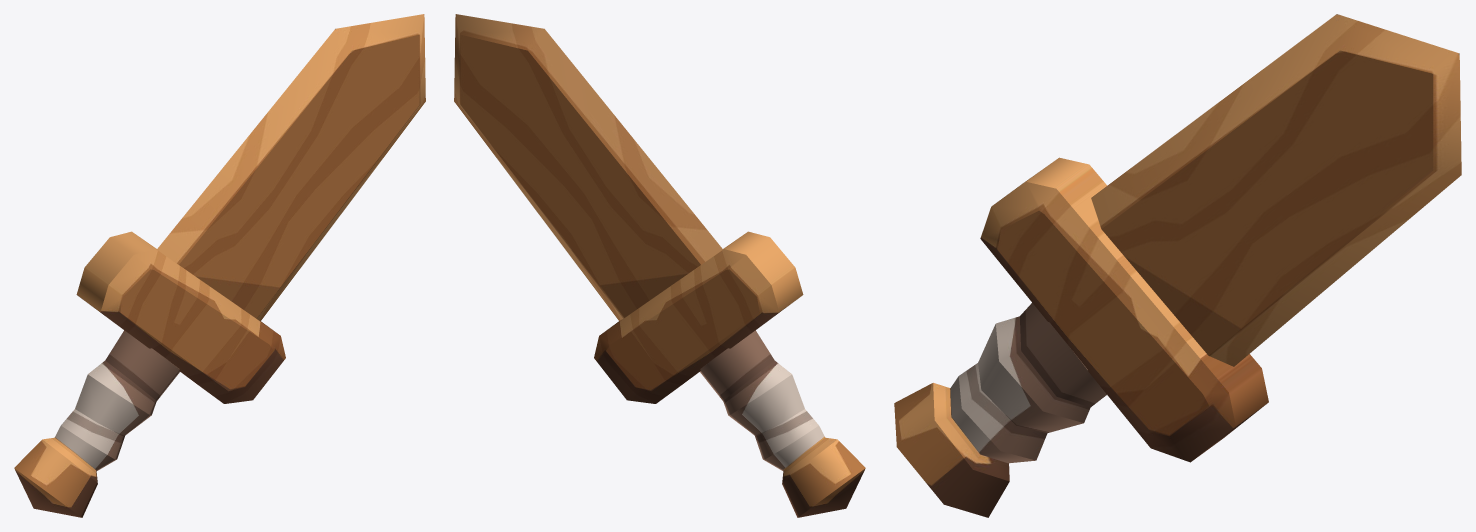
Rendered from Wood_01.FBX.
The picture shows the model from 3 angles, left to right: view 1: azimuth 30°, elevation 25°; view 2: azimuth 150°, elevation 25°; view 3: azimuth 330°, elevation 25°; orthographic projection. The views are drawn at different scales.
Parts seen in each view (by area): view 1: Wood_01; view 2: Wood_01; view 3: Wood_01.
Boxes of the visible parts, x1,y1,x2,y2 form: Wood_01: [14, 14, 425, 517]; Wood_01: [454, 14, 865, 517]; Wood_01: [894, 14, 1461, 517].
Size of the model in its own units: 68.84 by 68.28 by 9.06.
